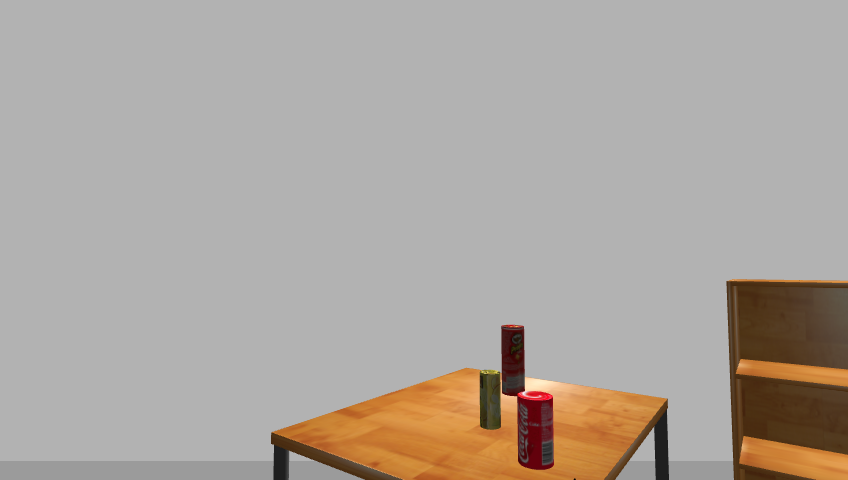biscuits pack: (478, 369, 503, 431)
bookshelf: (721, 278, 848, 479)
coke can: (514, 391, 555, 470)
dinner table: (263, 369, 681, 480)
pringles can: (498, 323, 528, 398)
